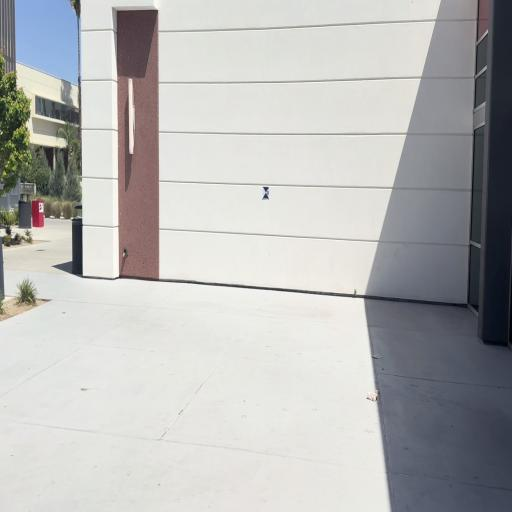target0: (262, 186, 269, 200)
